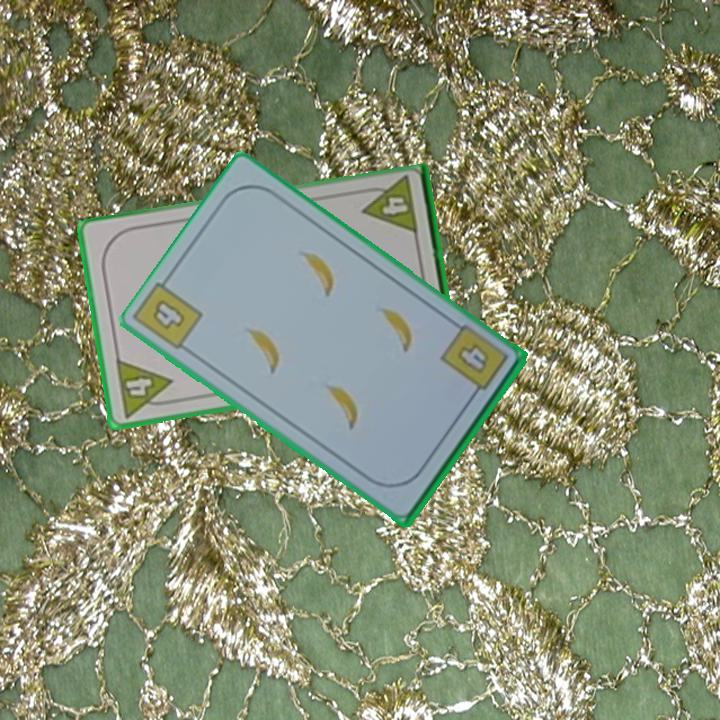4b: (437, 324, 511, 403), (148, 295, 188, 333)
4p: (112, 356, 178, 420), (357, 174, 421, 239)
